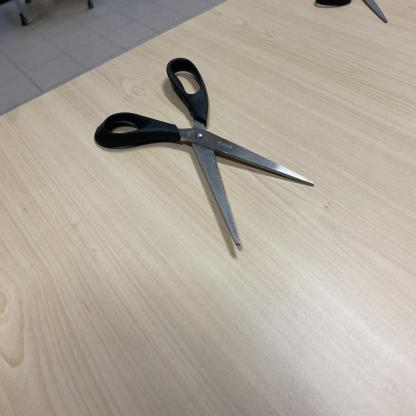scissors: (95, 56, 316, 252), (313, 0, 390, 26)
